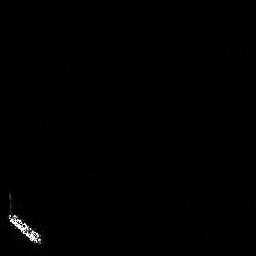ship: (8, 213, 43, 243)
